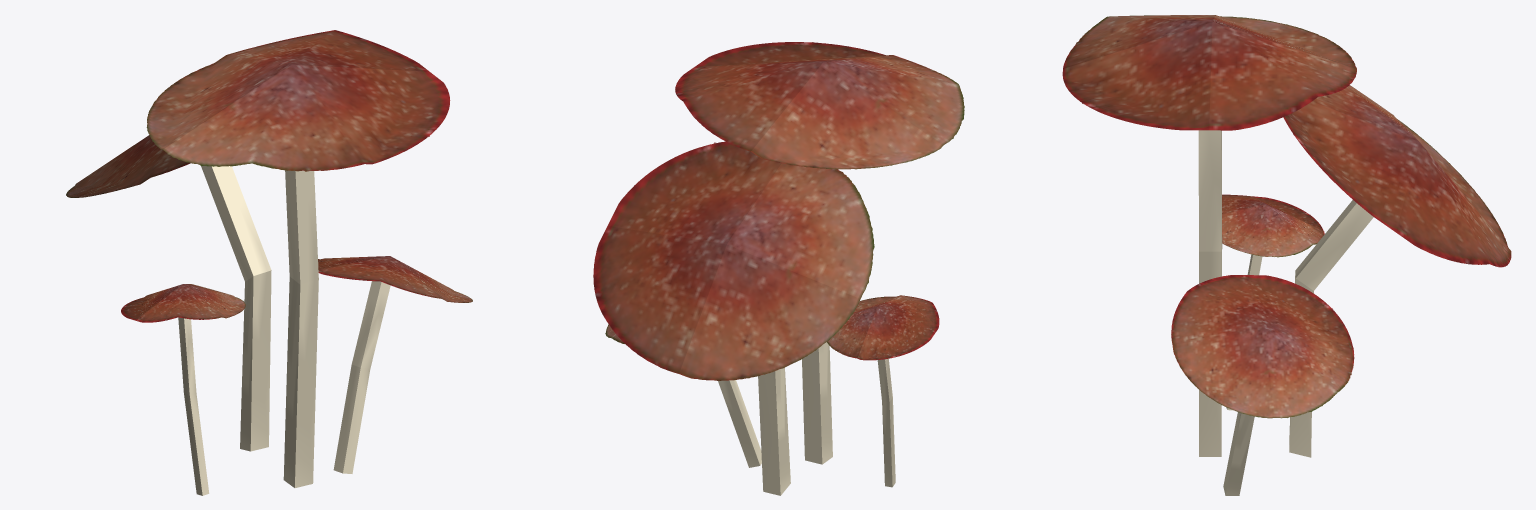
Rendered from mashroom3.fbx.
3 views of the same model, side by side, from view 1: azimuth 30°, elevation 25°; view 2: azimuth 150°, elevation 25°; view 3: azimuth 270°, elevation 25° (orthographic). The views are drawn at different scales.
Visible parts, largest first — view 1: Cube.003; view 2: Cube.003; view 3: Cube.003.
Boxes of the visible parts, bbox=[...] form: Cube.003: bbox=[66, 30, 472, 495]; Cube.003: bbox=[593, 42, 964, 495]; Cube.003: bbox=[1062, 15, 1511, 495].
Bounding box in the file's own units: 26.86 × 31.38 × 30.33.
